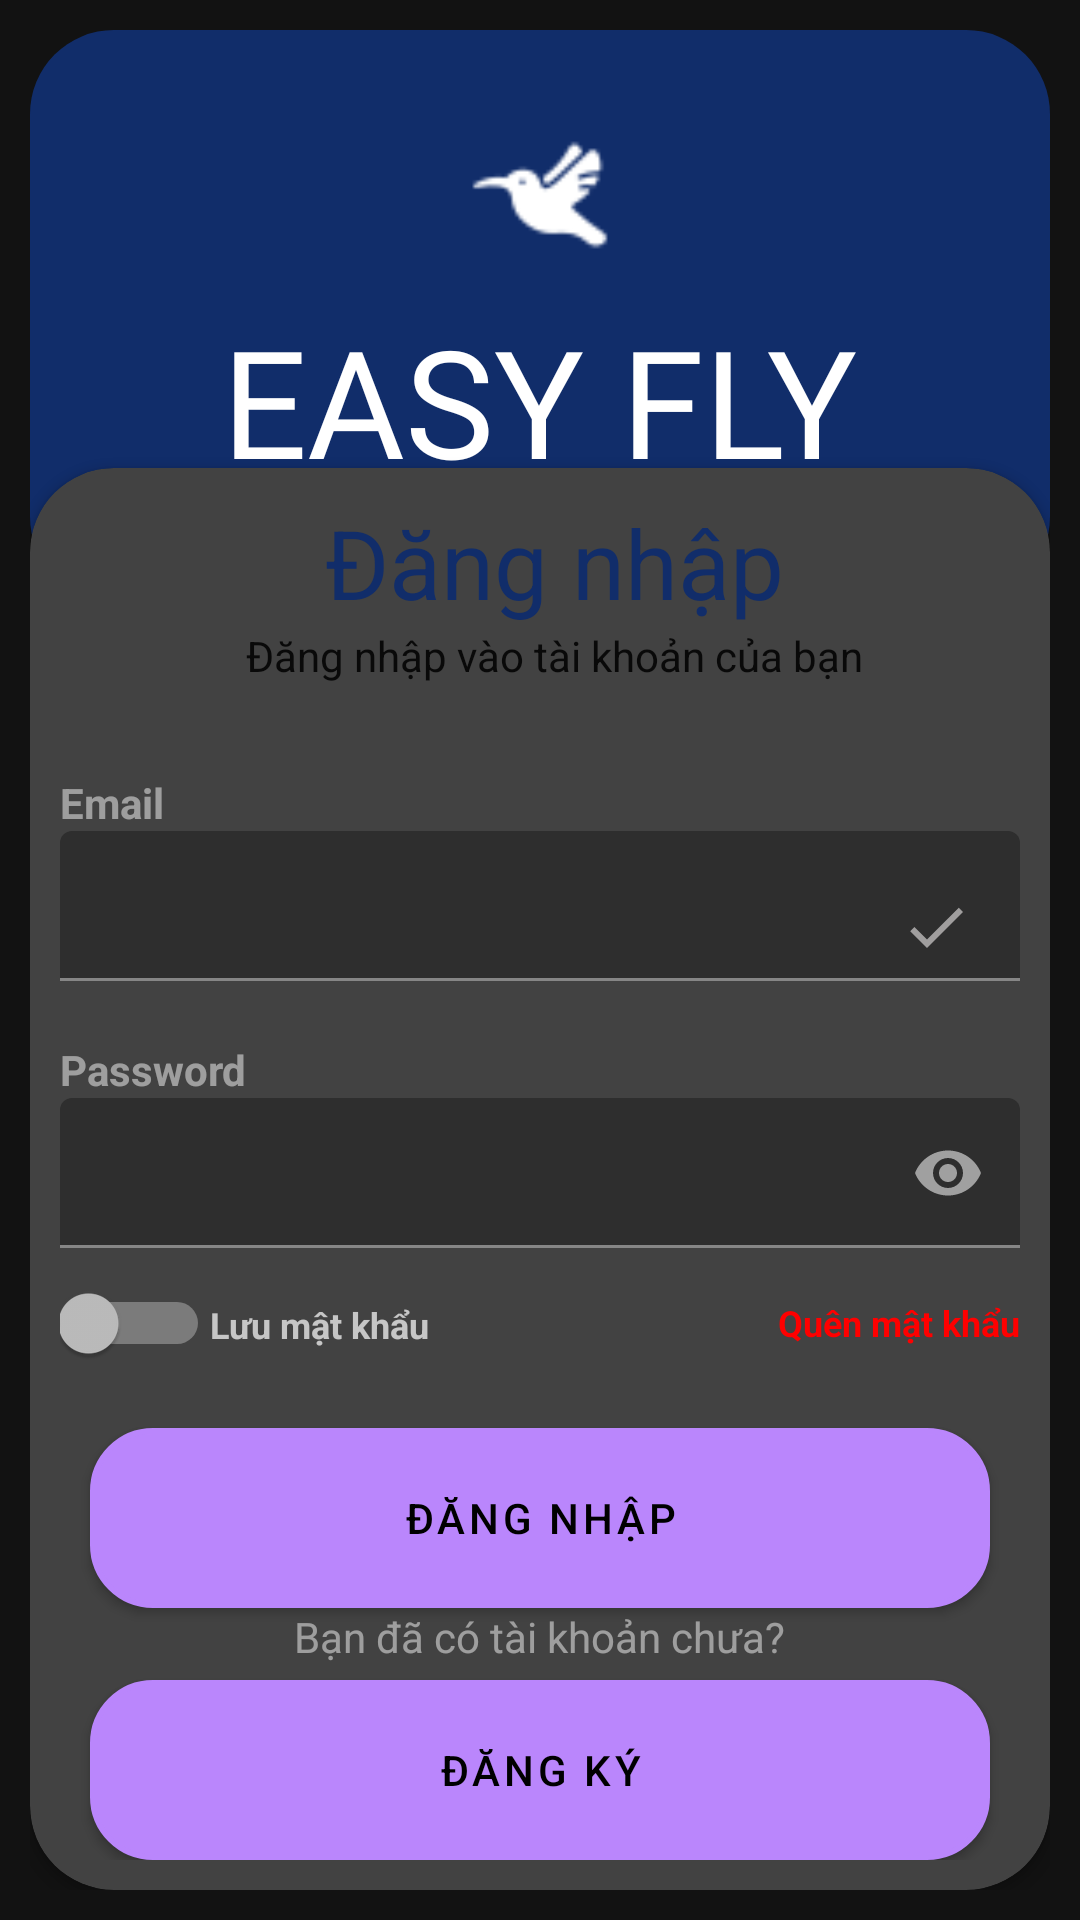

Icon click points for this 1080 × 1920 phone screenshot, format point (x, y):
chim: point (540, 195)
